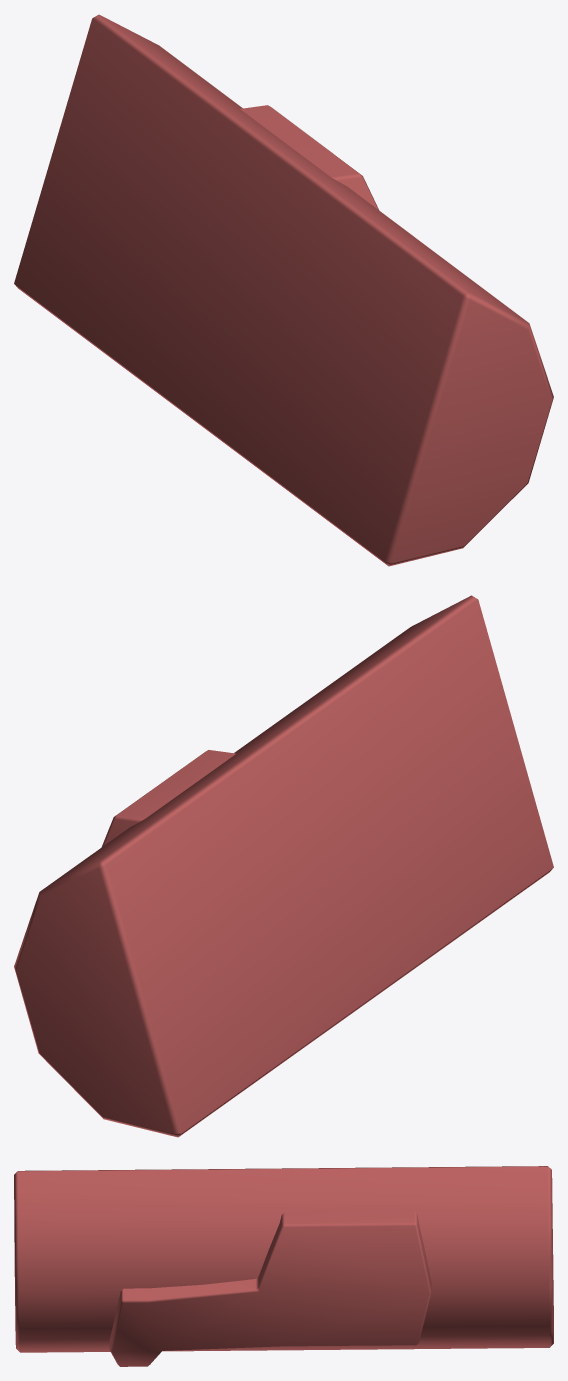
The model's file is SM_Firewood_03_Unity.fbx.
The picture shows the model from 3 angles, top to bottom: view 1: azimuth 30°, elevation 25°; view 2: azimuth 150°, elevation 25°; view 3: azimuth 270°, elevation 25°; orthographic projection. The views are drawn at different scales.
Parts seen in each view (by area): view 1: SM_Firewood_03; view 2: SM_Firewood_03; view 3: SM_Firewood_03.
Boxes of the visible parts, <box> form: SM_Firewood_03: <box>14,14,553,566</box>; SM_Firewood_03: <box>14,595,553,1137</box>; SM_Firewood_03: <box>14,1166,553,1366</box>.
Size of the model in its own units: 0.1115 by 0.157 by 0.3899.
